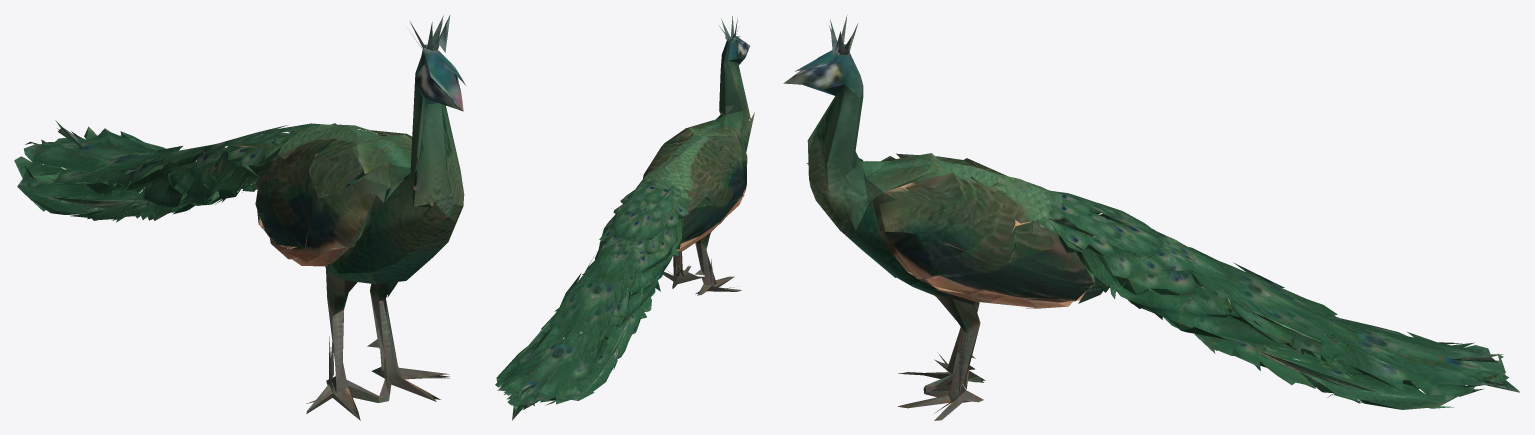
File: peafowl.glb
The picture shows the model from 3 angles, left to right: view 1: azimuth 30°, elevation 25°; view 2: azimuth 150°, elevation 25°; view 3: azimuth 270°, elevation 25°; orthographic projection. The views are drawn at different scales.
Visible parts, largest first — view 1: output_unwrapped; view 2: output_unwrapped; view 3: output_unwrapped.
Part boxes in pixels (box(x1,y1,x2,y2)): output_unwrapped: box(14, 15, 465, 420); output_unwrapped: box(495, 16, 754, 420); output_unwrapped: box(783, 15, 1519, 420).
Size of the model in its own units: 0.4402 by 1.12 by 2.
1 material, 1 textured.
